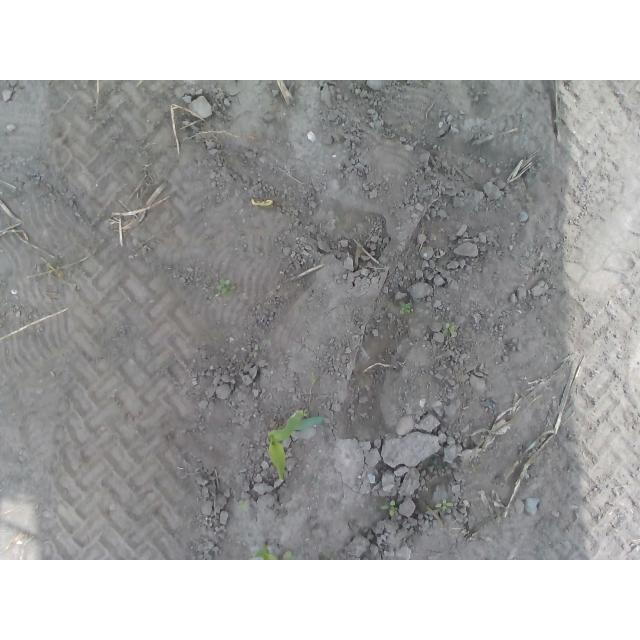Maize: (267, 410, 330, 478)
Weeds: (249, 544, 292, 561), (214, 277, 237, 296), (380, 499, 398, 518), (435, 499, 453, 514), (445, 322, 459, 339), (399, 301, 414, 316), (239, 500, 249, 513), (304, 410, 309, 417)
